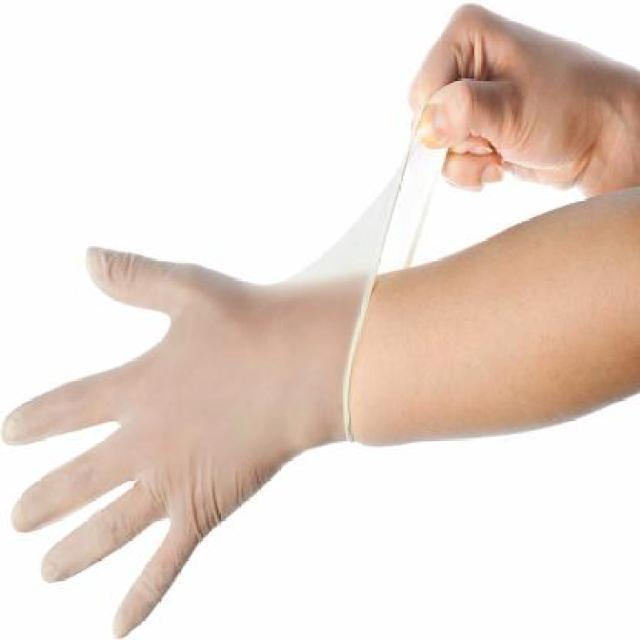glove_hand: (0, 197, 391, 637)
